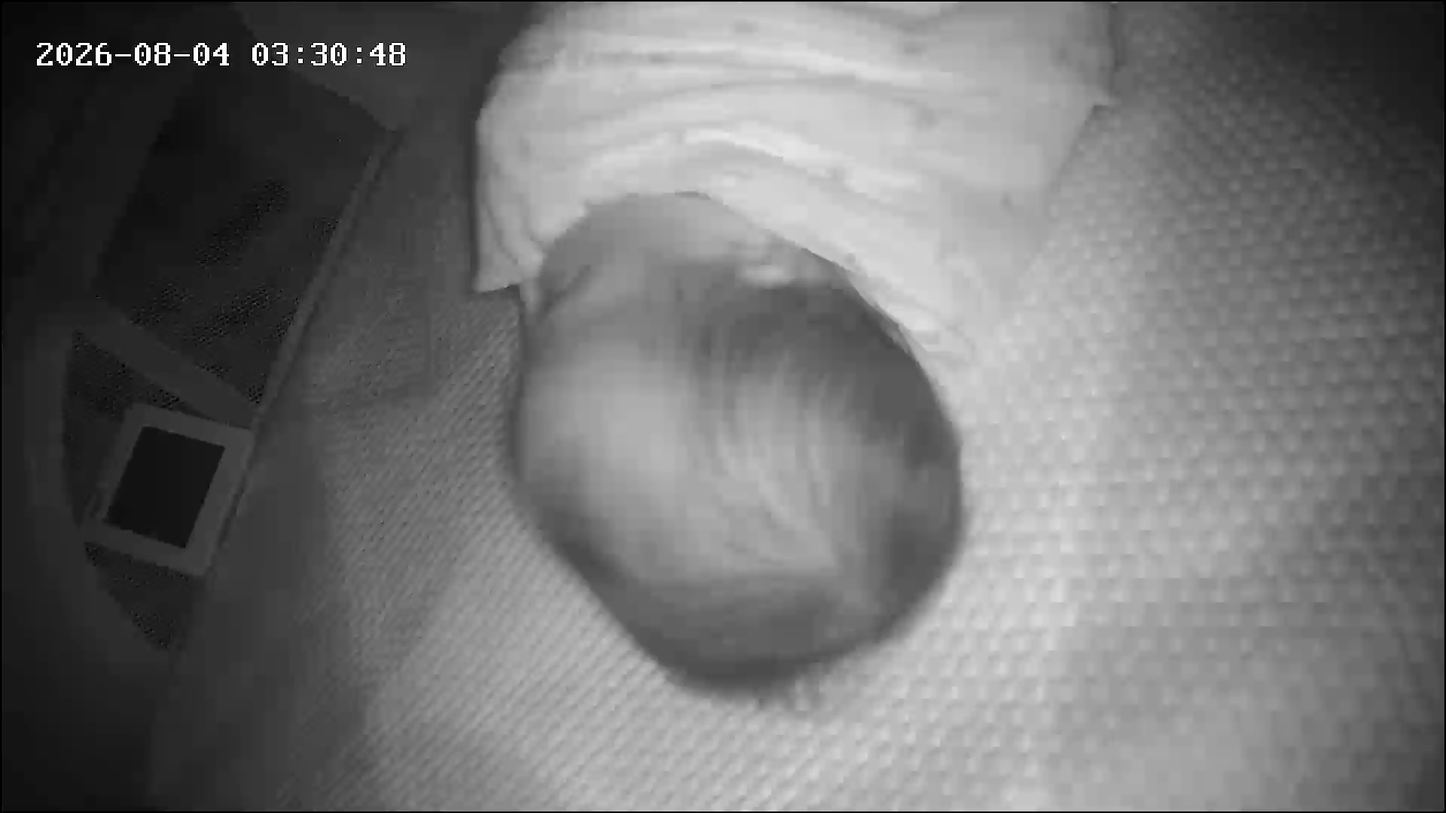baby: (372, 1, 1120, 724)
baby_face: (498, 142, 970, 698)
